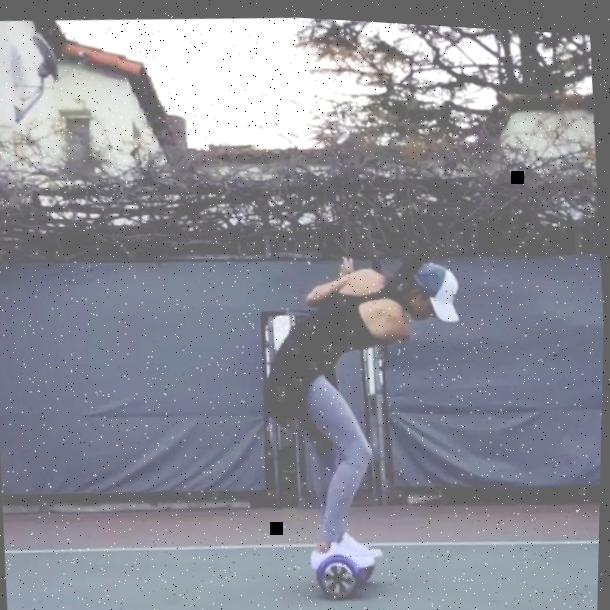ClubHead: (334, 124, 352, 141)
